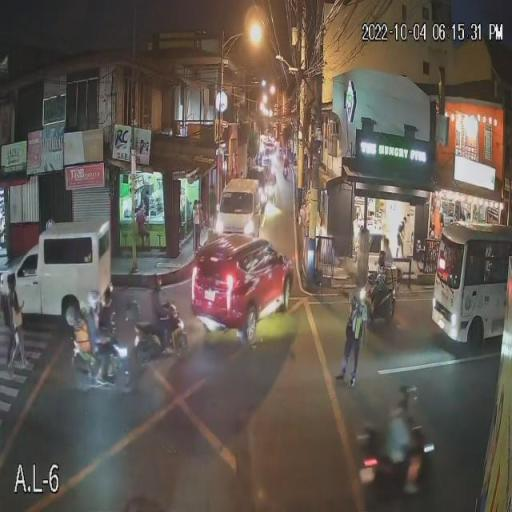helmet: (148, 273, 164, 291), (86, 290, 100, 308), (377, 251, 386, 264)
motorcycle: (355, 429, 436, 511), (70, 322, 137, 390), (132, 312, 190, 366), (358, 270, 400, 331)
rider: (378, 384, 428, 496), (74, 290, 116, 370), (146, 293, 181, 356), (370, 263, 390, 328)
